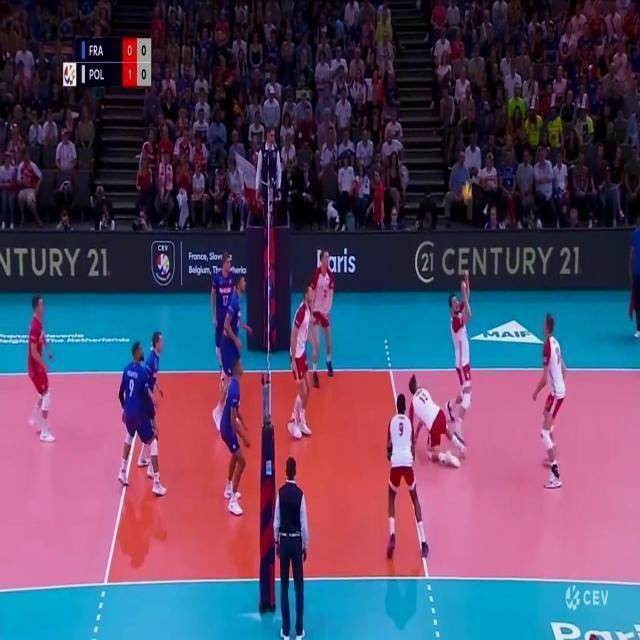volleyball: (462, 180, 473, 206)
